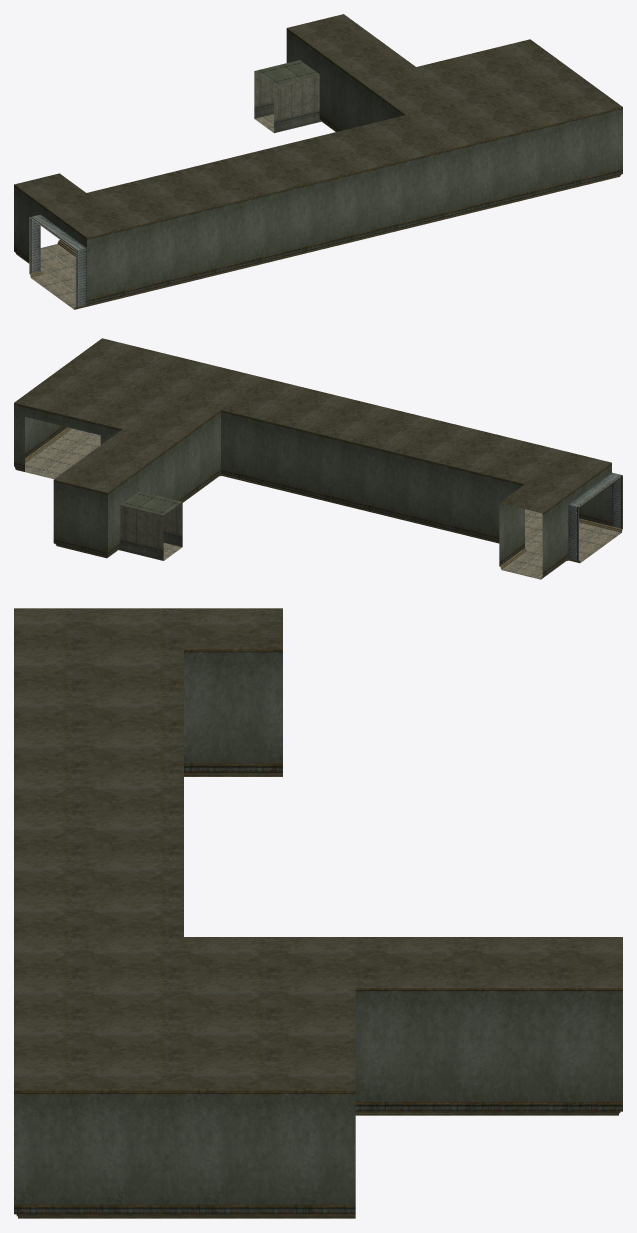
Rendered from mun_corl_guild_theater_s01_r8_backstage_mesh_r8.fbx.
3 renders of one model, top to bottom at view 1: azimuth 30°, elevation 25°; view 2: azimuth 150°, elevation 25°; view 3: azimuth 270°, elevation 25°, orthographic. The views are drawn at different scales.
Visible parts, largest first — view 1: mesh_node; view 2: mesh_node; view 3: mesh_node.
Boxes of the visible parts, box(x1,y1,x2,y2) form: mesh_node: box(14, 14, 622, 309); mesh_node: box(14, 338, 622, 579); mesh_node: box(14, 608, 622, 1218).
Size of the model in its own units: 48 by 5.87 by 25.07.
